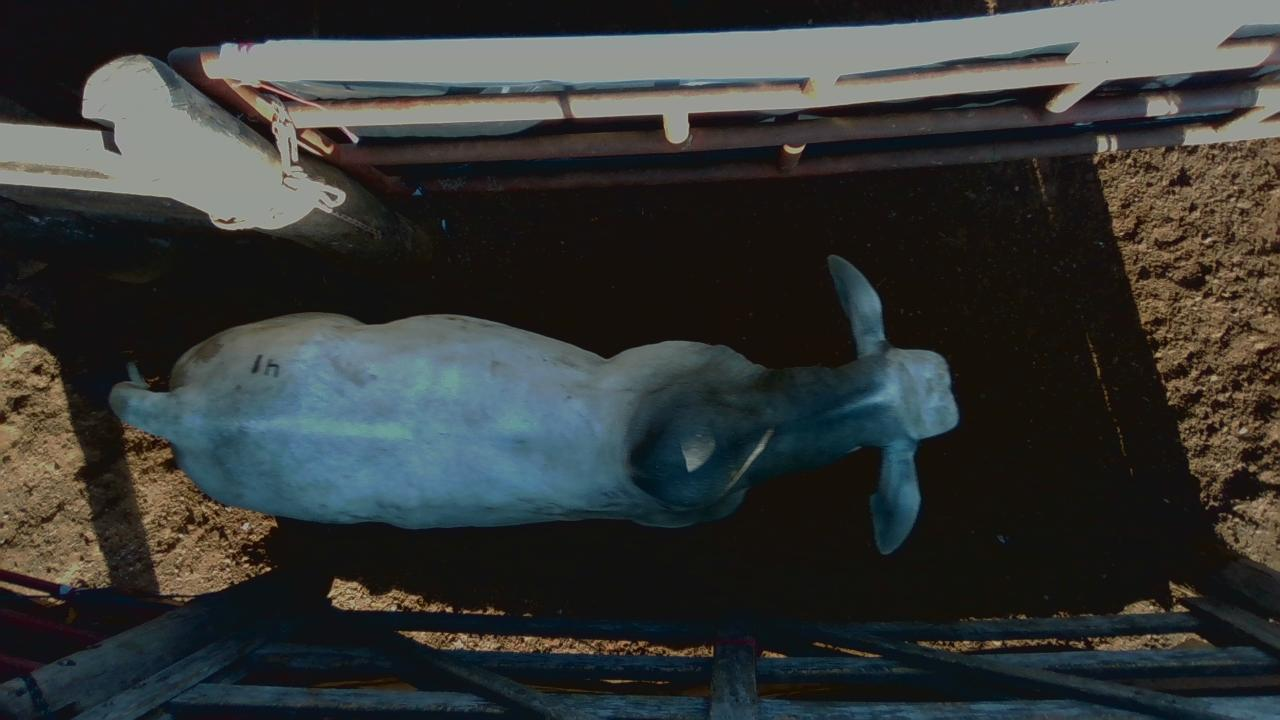cattle: (107, 252, 960, 555)
